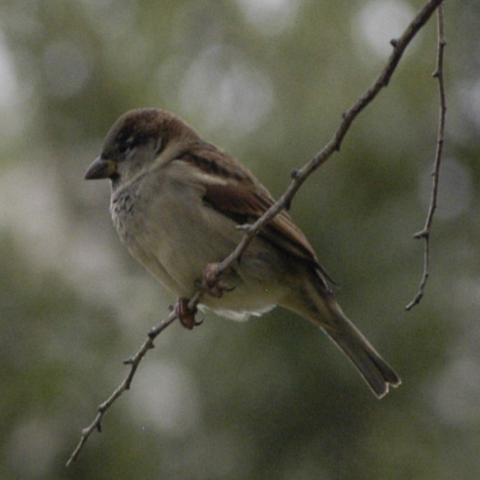bird: (80, 104, 404, 401)
